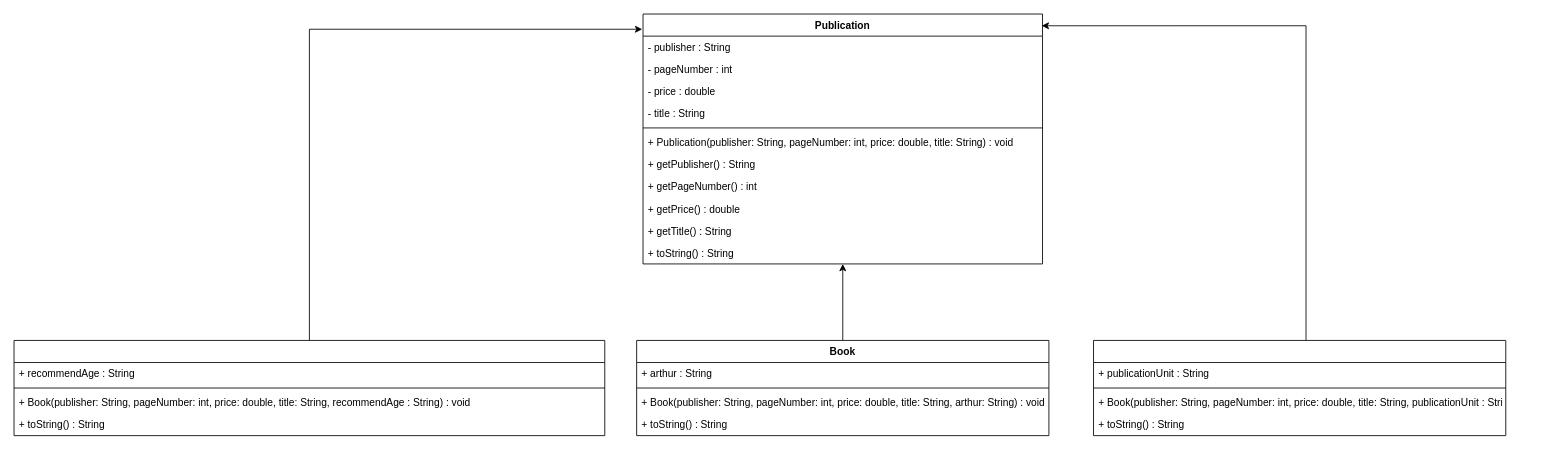
The diagram is 1559 pixels wide and 450 high, and some of its shapes have lost their labels. The box of each missing label's shape, as (x1, y1, x2, y2) in pixels:
KidMagazine: (13, 340, 605, 436)
Magazine: (1093, 340, 1506, 436)
